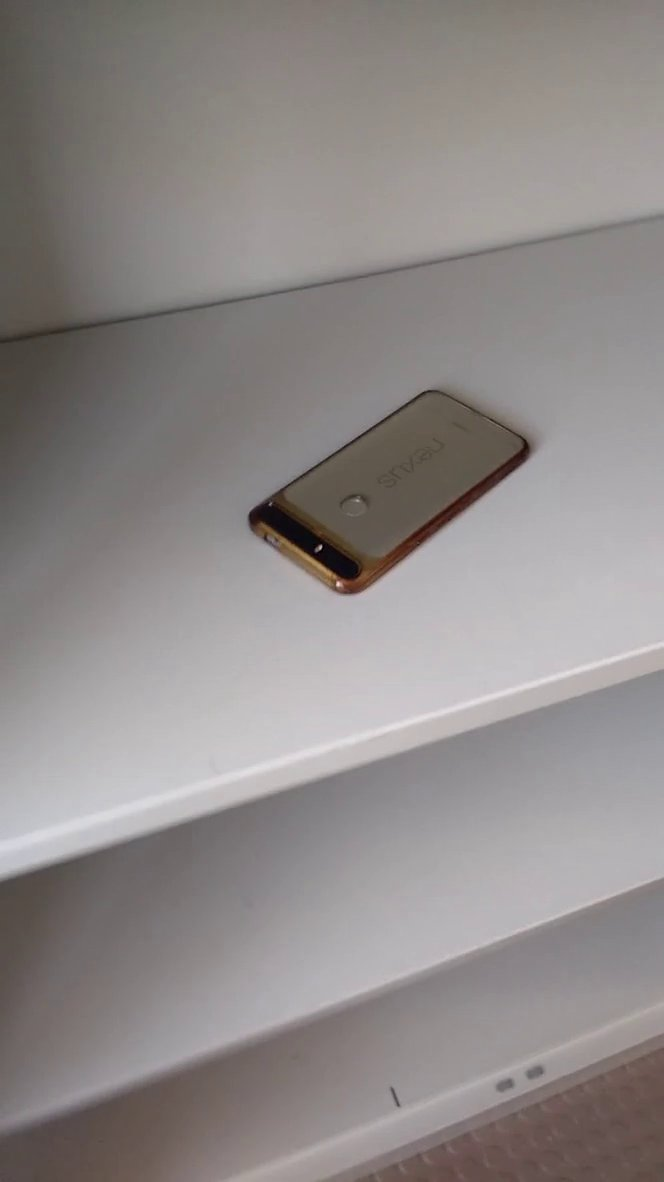phone: (230, 367, 548, 611)
